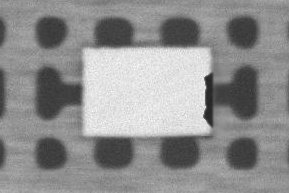DIE_BROKEN: (202, 70, 215, 132)
